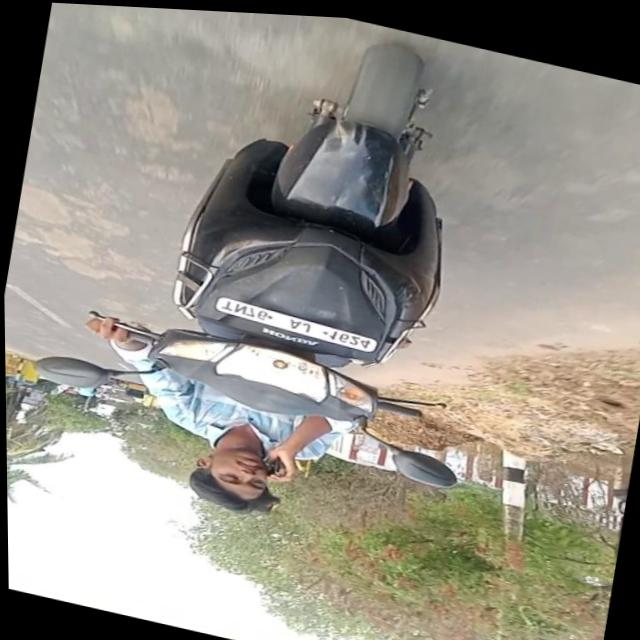USING_MOBILE: (259, 401, 350, 492)
